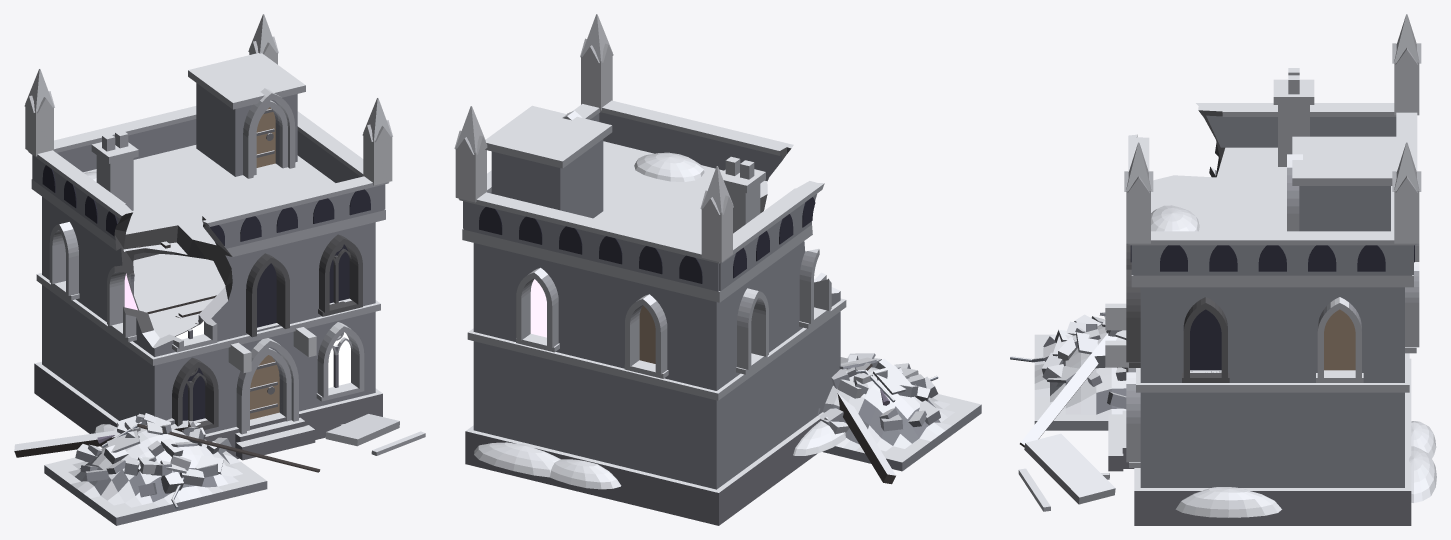
The model's file is AR_Casa_Terraco_Quebrada.fbx.
The picture shows the model from 3 angles, left to right: view 1: azimuth 30°, elevation 25°; view 2: azimuth 150°, elevation 25°; view 3: azimuth 270°, elevation 25°; orthographic projection. The views are drawn at different scales.
Parts seen in each view (by area): view 1: AR_Casa_Terraco_Quebrada; view 2: AR_Casa_Terraco_Quebrada; view 3: AR_Casa_Terraco_Quebrada.
Part boxes in pixels (x1=…): AR_Casa_Terraco_Quebrada: x1=14, y1=14, x2=425, y2=525; AR_Casa_Terraco_Quebrada: x1=454, y1=14, x2=981, y2=525; AR_Casa_Terraco_Quebrada: x1=1010, y1=14, x2=1436, y2=525.
Bounding box in the file's own units: 12.98 × 11.94 × 12.1.
